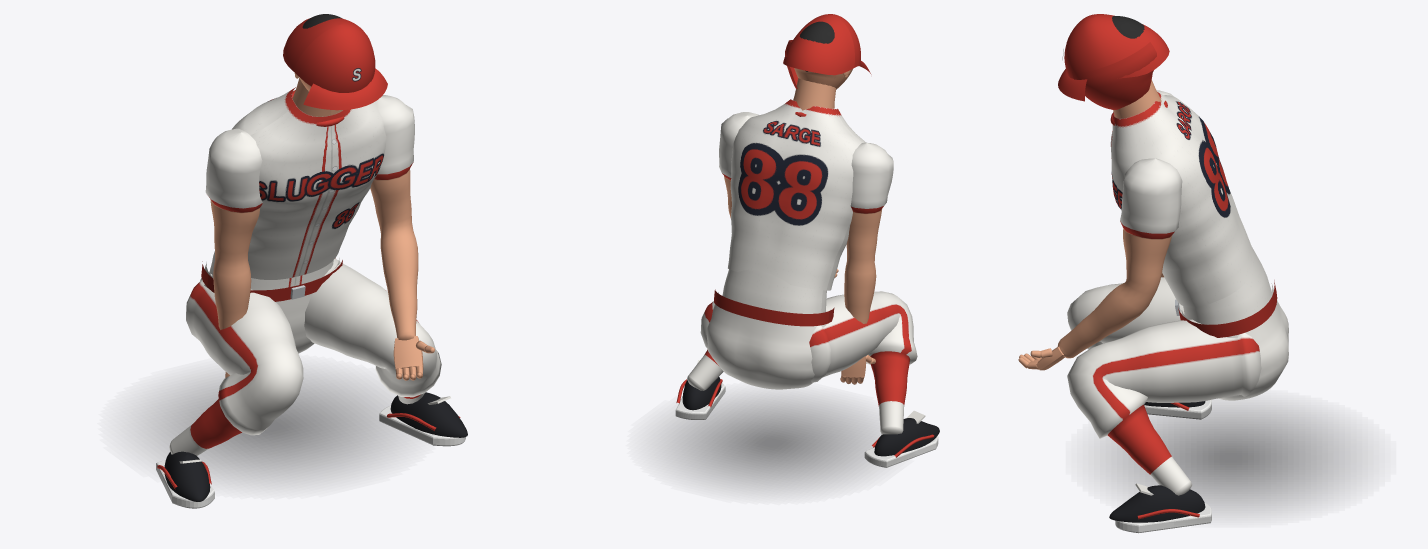
Rendered from catcher_home.glb.
The picture shows the model from 3 angles, left to right: view 1: azimuth 30°, elevation 25°; view 2: azimuth 150°, elevation 25°; view 3: azimuth 270°, elevation 25°; orthographic projection. The views are drawn at different scales.
Parts seen in each view (by area): view 1: catcher_home, object 30, object 32; view 2: catcher_home, object 30, object 2, object 29, object 34; view 3: catcher_home, object 30, object 31, object 2, object 32, object 29.
Part boxes in pixels (box(x1,y1,x2,y2)): catcher_home: box(138, 87, 467, 508); object 30: box(283, 18, 374, 92); object 32: box(303, 68, 387, 110); catcher_home: box(661, 99, 939, 490); object 30: box(783, 14, 860, 75); object 2: box(793, 78, 835, 110); object 29: box(799, 21, 834, 71); object 34: box(794, 68, 852, 89); catcher_home: box(1027, 90, 1356, 533); object 30: box(1064, 14, 1169, 78); object 31: box(1072, 42, 1156, 109); object 2: box(1113, 80, 1161, 118); object 32: box(1058, 69, 1087, 101); object 29: box(1112, 16, 1144, 38).
Bounding box in the file's own units: 3.5 × 4.76 × 3.79.
Materials: 25 (5 with a texture image).
